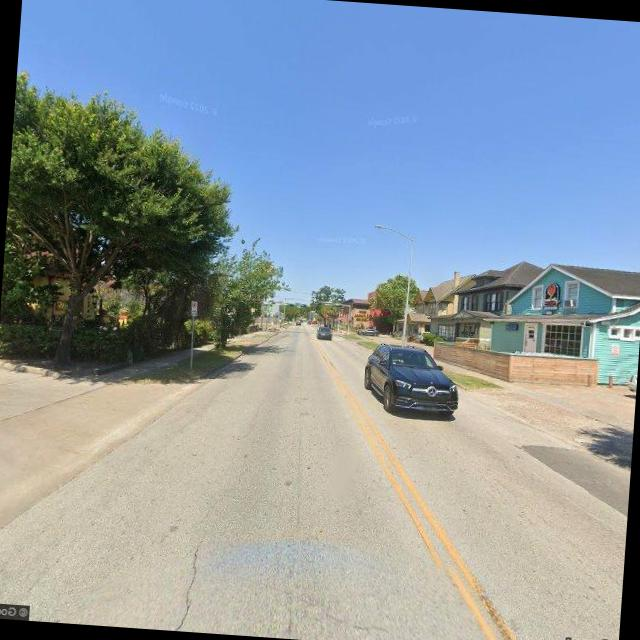pothole: (170, 488, 222, 632)
